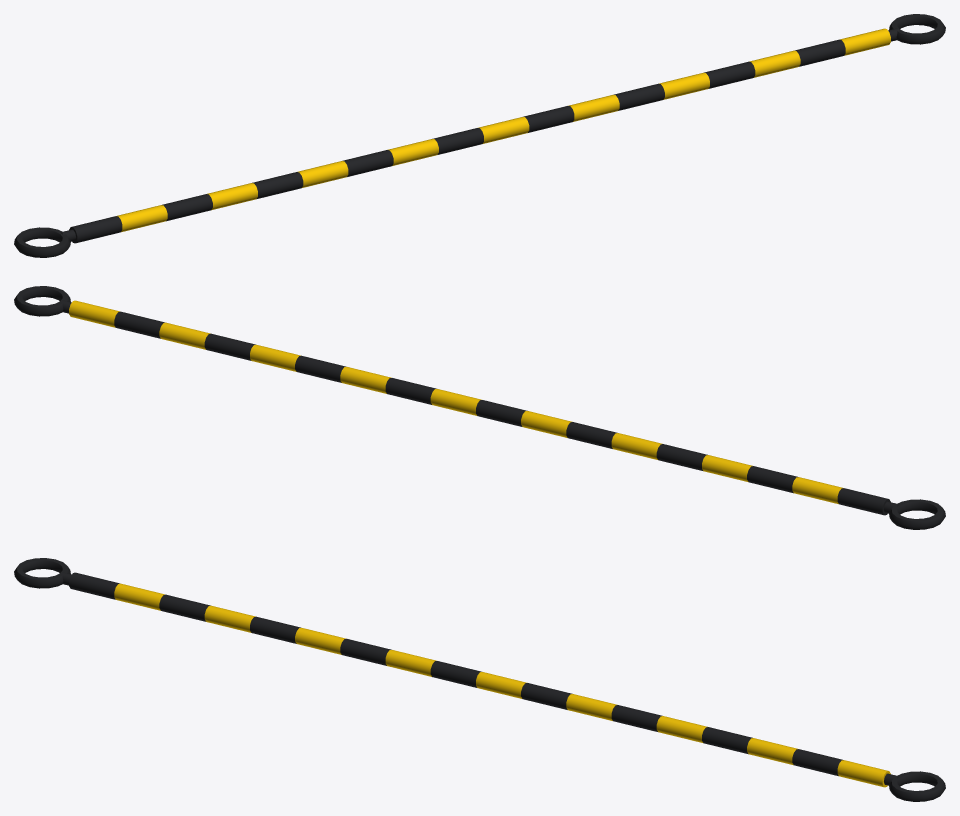
File: cone_bar_2m.fbx
The picture shows the model from 3 angles, top to bottom: view 1: azimuth 30°, elevation 25°; view 2: azimuth 150°, elevation 25°; view 3: azimuth 330°, elevation 25°; orthographic projection.
Visible parts, largest first — view 1: cone_bar_2m; view 2: cone_bar_2m; view 3: cone_bar_2m.
Part boxes in pixels (<box>): cone_bar_2m: <box>14,14,945,257</box>; cone_bar_2m: <box>14,286,945,529</box>; cone_bar_2m: <box>14,558,945,801</box>.
Size of the model in its own units: 2.11 by 0.034 by 0.114.
